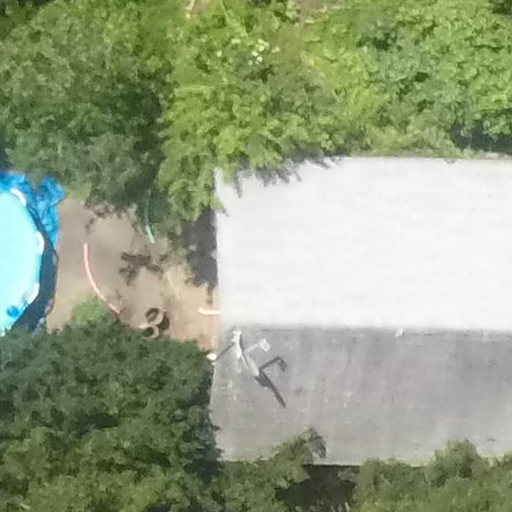container: (139, 303, 165, 326), (139, 319, 161, 340)
